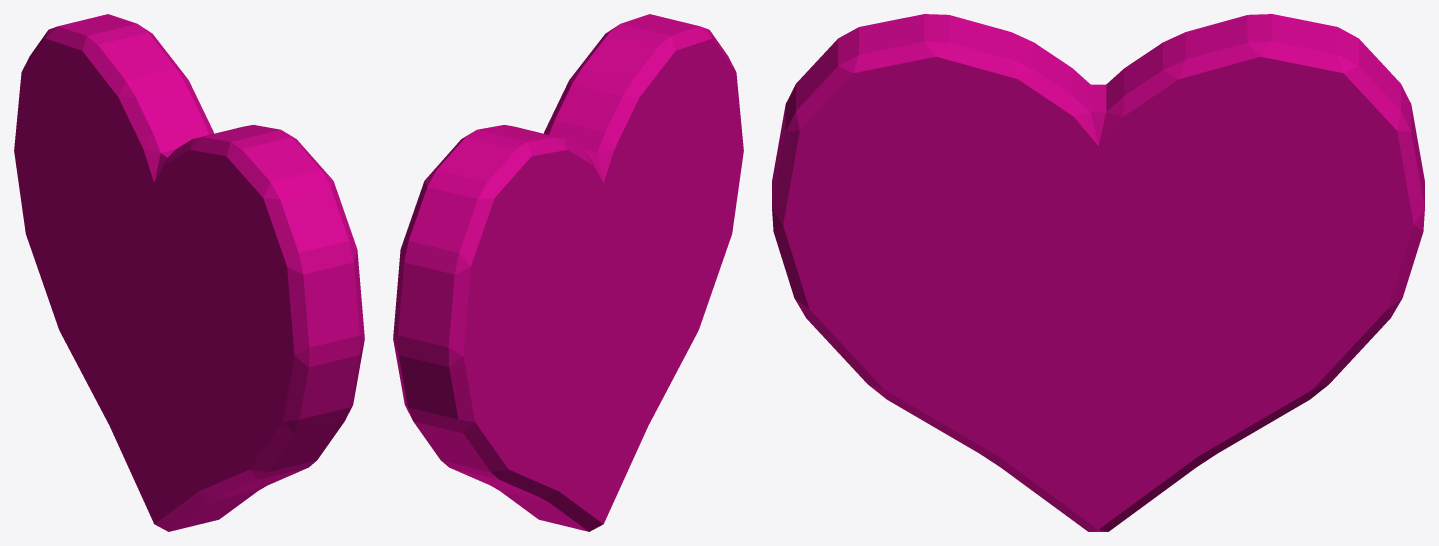
File: Heart.fbx
3 views of the same model, side by side, from view 1: azimuth 30°, elevation 25°; view 2: azimuth 150°, elevation 25°; view 3: azimuth 270°, elevation 25° (orthographic). The views are drawn at different scales.
Visible parts, largest first — view 1: Life; view 2: Life; view 3: Life.
Part boxes in pixels (<box>): Life: <box>14,14,364,531</box>; Life: <box>393,14,743,531</box>; Life: <box>772,14,1424,531</box>.
Bounding box in the file's own units: 32.01 × 190 × 229.
